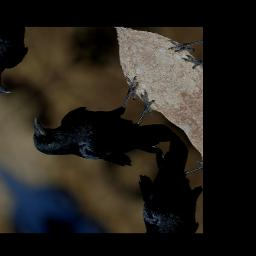Crow: (18, 51, 187, 207)
